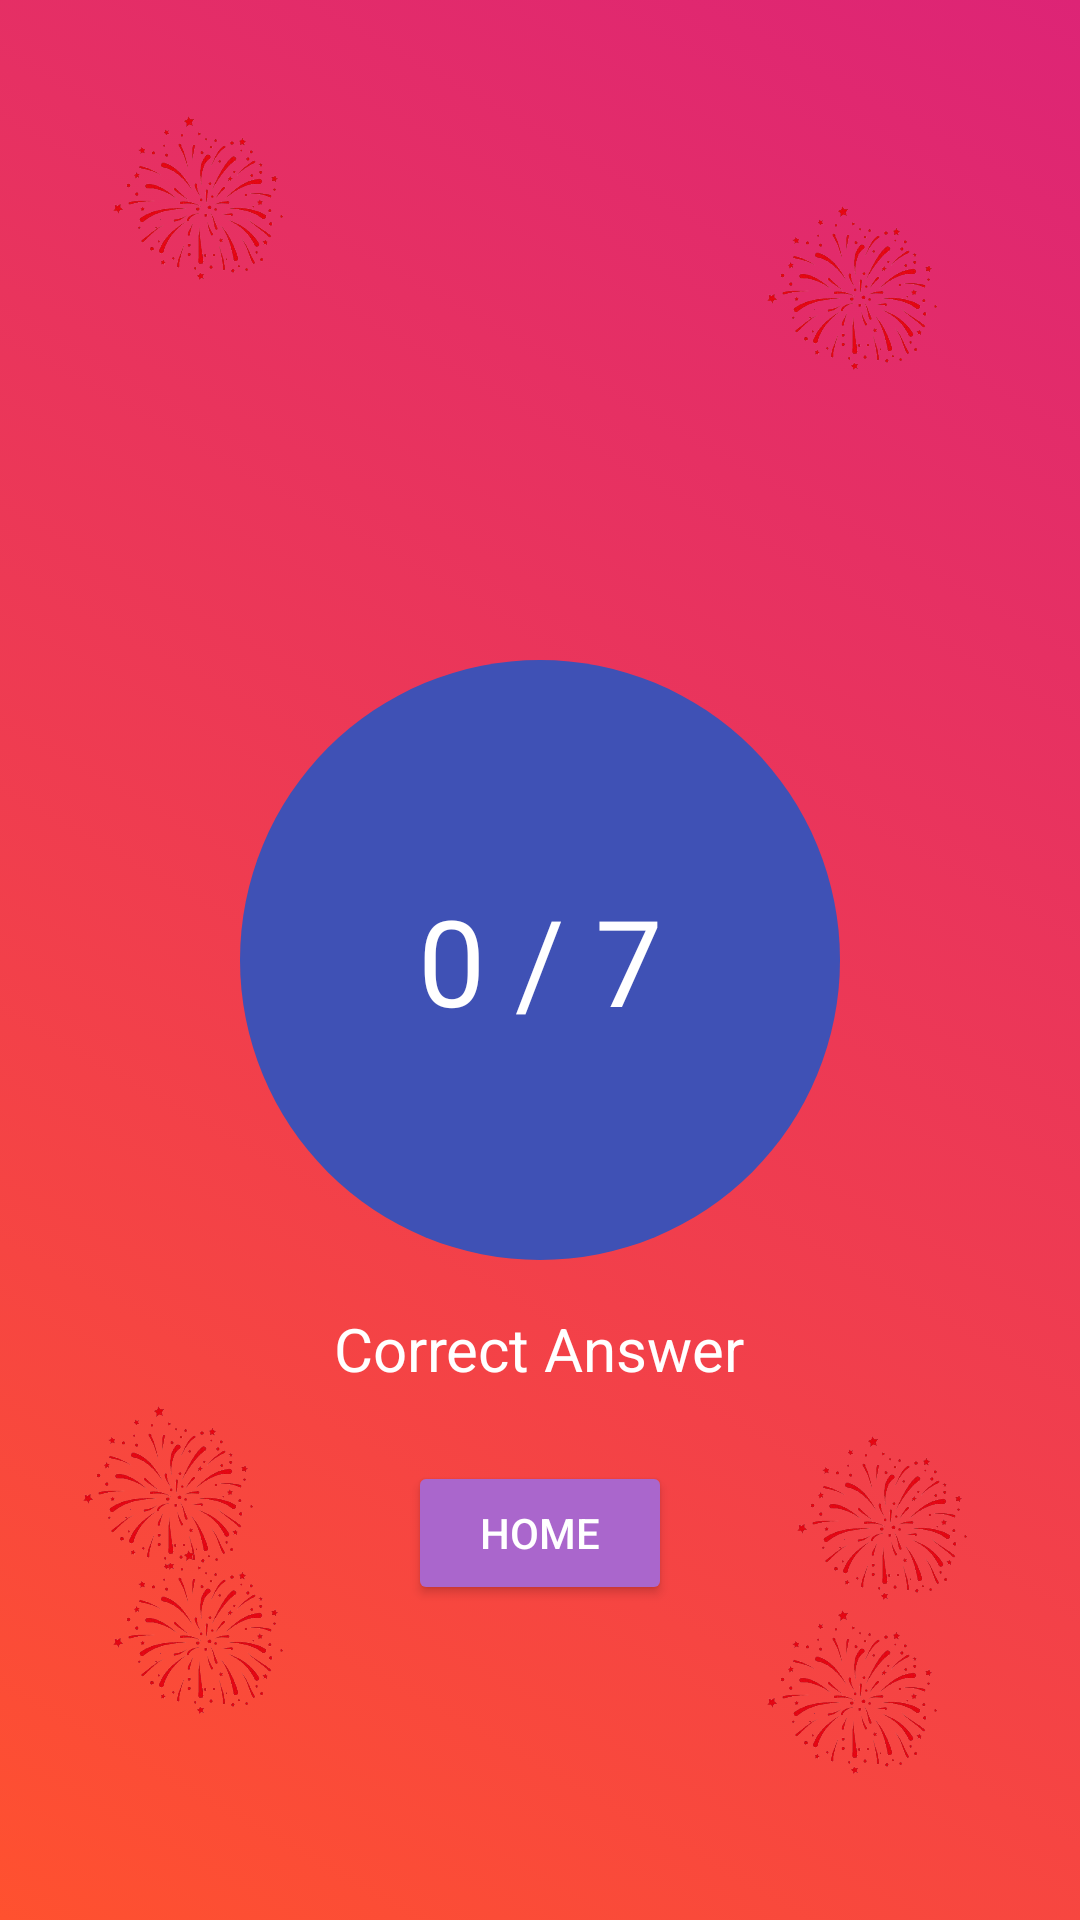

Screen size 1080px x 1920px. Icon name, then its center in pixels as (x=x, y=y):
firework: (x=198, y=198), (x=852, y=288), (x=168, y=1501), (x=882, y=1531), (x=198, y=1619), (x=852, y=1679)
